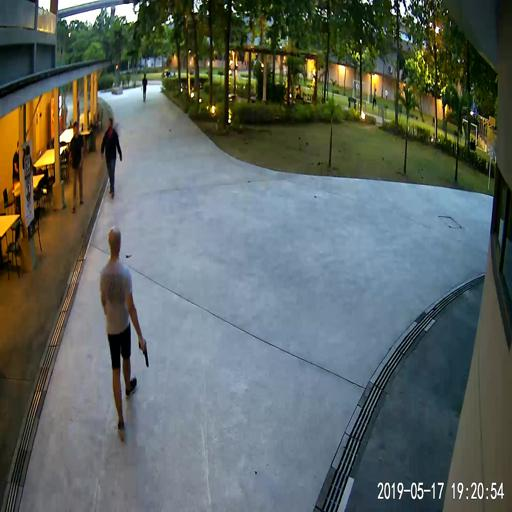pistol: (138, 338, 149, 367)
